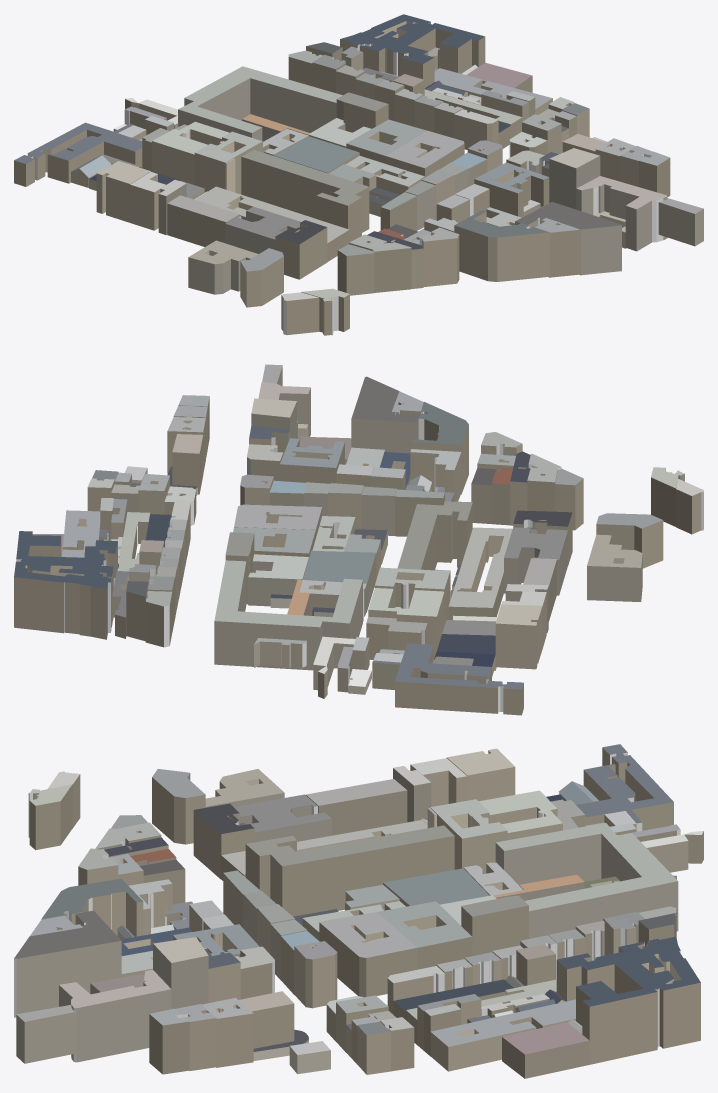
3 views of the same model, one above another, from view 1: azimuth 30°, elevation 25°; view 2: azimuth 150°, elevation 25°; view 3: azimuth 270°, elevation 25° (orthographic). The views are drawn at different scales.
Parts seen in each view (by area): view 1: tuile; view 2: tuile; view 3: tuile.
Boxes of the visible parts, x1,y1,x2,y2 form: tuile: [14, 14, 703, 335]; tuile: [14, 364, 703, 715]; tuile: [14, 744, 703, 1078].
Bounding box in the file's own units: 290 × 37.12 × 279.
